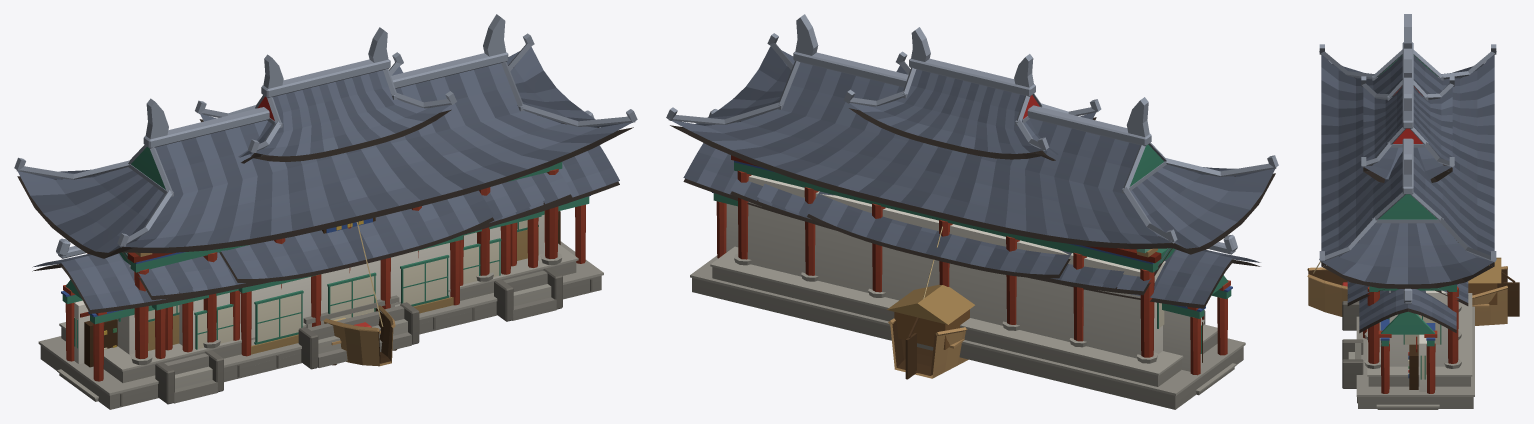
Rendered from gate.glb.
3 renders of one model, left to right at view 1: azimuth 30°, elevation 25°; view 2: azimuth 150°, elevation 25°; view 3: azimuth 270°, elevation 25°, orthographic. The views are drawn at different scales.
Parts seen in each view (by area): view 1: jeongak, office_hall, gate_c, lib_hall, guest_hall, exam_hall, tang_ship, pagoda; view 2: jeongak, gate_c, lib_hall, office_hall, tang_ship, guest_hall, exam_hall; view 3: jeongak, gate_c, lib_hall, tang_ship, exam_hall, guest_hall.
Part boxes in pixels (<box>): jeongak: <box>14,14,637,409</box>; office_hall: <box>219,190,494,356</box>; gate_c: <box>195,27,456,163</box>; lib_hall: <box>32,110,619,401</box>; guest_hall: <box>165,176,544,352</box>; exam_hall: <box>122,170,572,358</box>; tang_ship: <box>323,222,395,366</box>; pagoda: <box>303,295,399,327</box>; jeongak: <box>666,14,1278,409</box>; gate_c: <box>843,27,1101,160</box>; lib_hall: <box>683,109,1260,395</box>; office_hall: <box>807,191,1071,278</box>; tang_ship: <box>887,226,974,379</box>; guest_hall: <box>757,184,1124,288</box>; exam_hall: <box>730,178,1172,295</box>; jeongak: <box>1319,14,1496,408</box>; gate_c: <box>1361,48,1454,182</box>; lib_hall: <box>1359,288,1456,409</box>; tang_ship: <box>1307,257,1519,325</box>; exam_hall: <box>1347,285,1468,305</box>; guest_hall: <box>1347,281,1468,346</box>.
Size of the model in its own units: 19.65 by 10.49 by 8.08.
